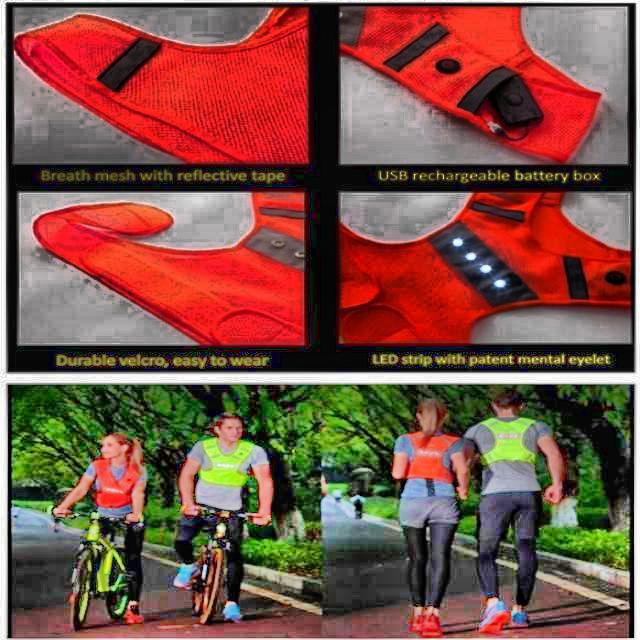safety_jacket: (472, 416, 548, 491), (187, 432, 260, 509), (400, 426, 466, 492), (96, 452, 145, 508)
